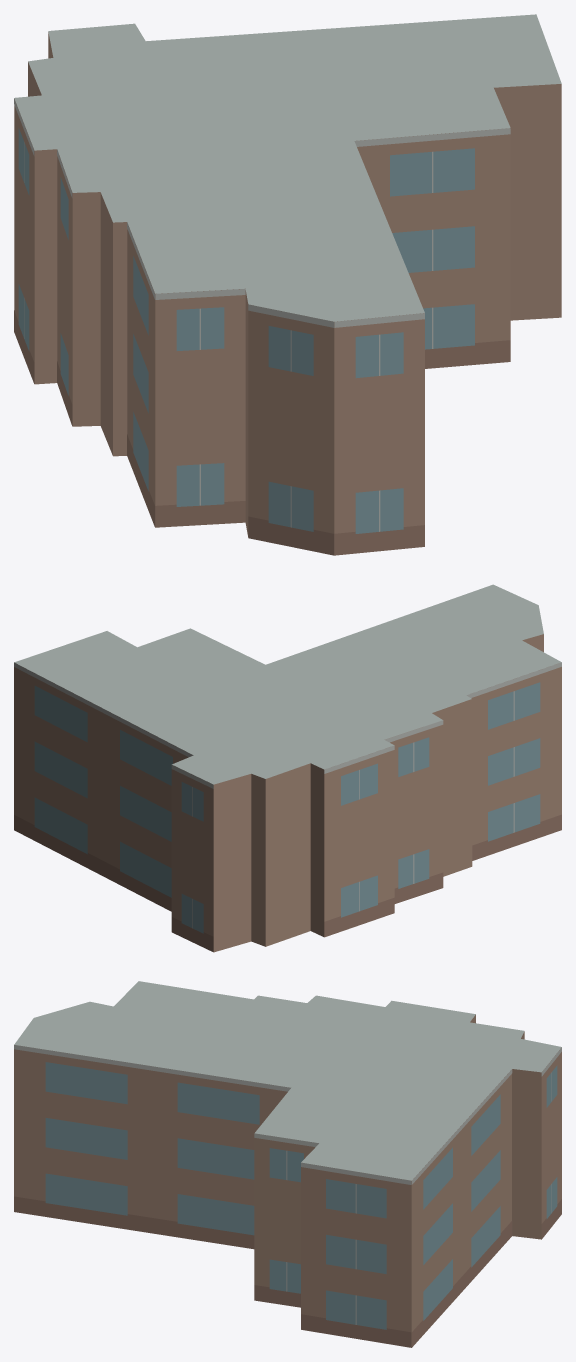
The model's file is survey-upis-32981795.glb.
3 views of the same model, one above another, from view 1: azimuth 30°, elevation 25°; view 2: azimuth 150°, elevation 25°; view 3: azimuth 270°, elevation 25° (orthographic). The views are drawn at different scales.
Parts seen in each view (by area): view 1: survey-upis-32981795.tmp; view 2: survey-upis-32981795.tmp; view 3: survey-upis-32981795.tmp.
Boxes of the visible parts, x1,y1,x2,y2 form: survey-upis-32981795.tmp: (14,14,561,555); survey-upis-32981795.tmp: (14,584,561,952); survey-upis-32981795.tmp: (14,981,561,1347).
Size of the model in its own units: 23.45 by 9.15 by 27.18.
